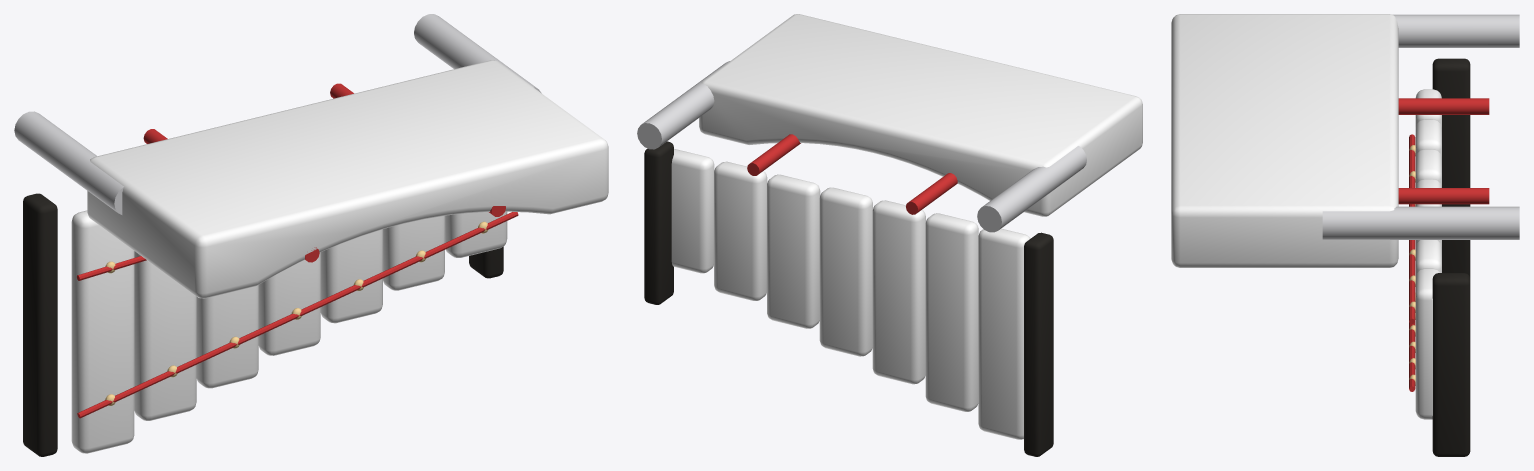
3 views of the same model, side by side, from view 1: azimuth 30°, elevation 25°; view 2: azimuth 150°, elevation 25°; view 3: azimuth 270°, elevation 25° (orthographic). The views are drawn at different scales.
Parts seen in each view (by area): view 1: marimba_v5_default; view 2: marimba_v5_default; view 3: marimba_v5_default.
Part boxes in pixels (x1,y1,x2,y2): marimba_v5_default: (14, 14, 608, 456); marimba_v5_default: (637, 14, 1142, 456); marimba_v5_default: (1171, 14, 1519, 456).
Size of the model in its own units: 0.7019 by 0.445 by 0.46.
